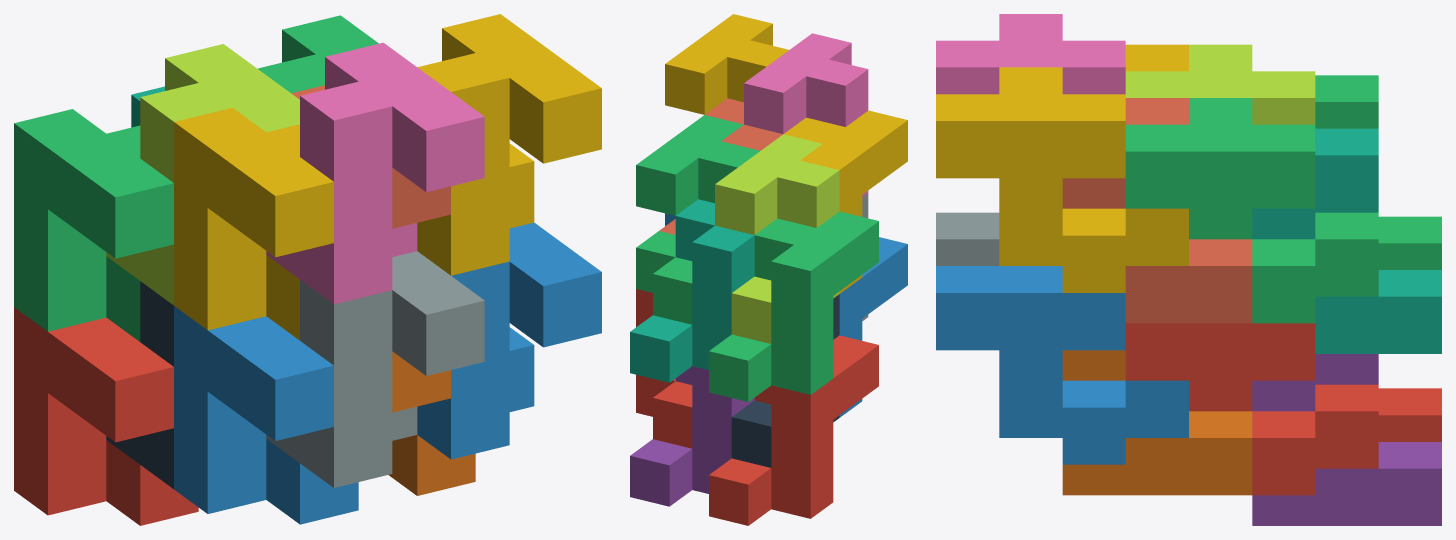
Rendered from tiling.obj.
3 views of the same model, side by side, from view 1: azimuth 30°, elevation 25°; view 2: azimuth 150°, elevation 25°; view 3: azimuth 270°, elevation 25° (orthographic). The views are drawn at different scales.
Visible parts, largest first — view 1: copy_2_domain_4, copy_1_domain_3, copy_1_domain_4, copy_1_domain_2, copy_1_domain_1, copy_2_domain_8, copy_2_domain_2, copy_2_domain_6, copy_2_domain_3, copy_1_domain_6, copy_2_domain_7, copy_2_domain_1 (+1 smaller); view 2: copy_1_domain_3, copy_1_domain_1, copy_1_domain_7, copy_2_domain_3, copy_2_domain_7, copy_2_domain_4, copy_1_domain_5, copy_2_domain_8, copy_1_domain_4, copy_2_domain_5, copy_1_domain_2, copy_2_domain_1 (+1 smaller); view 3: copy_2_domain_8, copy_2_domain_7, copy_2_domain_6, copy_2_domain_5, copy_1_domain_7, copy_1_domain_5, copy_1_domain_6, copy_1_domain_8, copy_2_domain_4, copy_2_domain_3, copy_1_domain_3, copy_1_domain_1 (+2 smaller).
Part boxes in pixels (x1,y1,x2,y2): copy_2_domain_4: (266, 42, 484, 304); copy_1_domain_3: (14, 109, 173, 341); copy_1_domain_4: (174, 107, 333, 340); copy_1_domain_2: (174, 306, 358, 524); copy_1_domain_1: (14, 307, 198, 525); copy_2_domain_8: (417, 14, 601, 275); copy_2_domain_2: (266, 251, 484, 487); copy_2_domain_6: (417, 222, 601, 459); copy_2_domain_3: (106, 44, 299, 305); copy_1_domain_6: (389, 351, 475, 495); copy_2_domain_7: (258, 15, 378, 93); copy_2_domain_1: (106, 281, 173, 488); copy_1_domain_3: (709, 211, 878, 401); copy_1_domain_1: (709, 335, 878, 525); copy_1_domain_7: (630, 199, 754, 382); copy_2_domain_3: (715, 134, 839, 343); copy_2_domain_7: (636, 115, 759, 324); copy_2_domain_4: (744, 33, 868, 197); copy_1_domain_5: (630, 366, 754, 506); copy_2_domain_8: (665, 14, 788, 114); copy_1_domain_4: (784, 110, 907, 293); copy_2_domain_5: (636, 289, 692, 448); copy_1_domain_2: (839, 237, 907, 417); copy_2_domain_1: (731, 294, 839, 467); copy_2_domain_8: (936, 67, 1188, 292); copy_2_domain_7: (1125, 98, 1378, 323); copy_2_domain_6: (936, 266, 1188, 464); copy_2_domain_5: (1125, 323, 1378, 495); copy_1_domain_7: (1252, 128, 1441, 353); copy_1_domain_5: (1252, 354, 1441, 525); copy_1_domain_6: (1062, 350, 1252, 495); copy_1_domain_8: (1062, 98, 1252, 323); copy_2_domain_4: (936, 14, 1125, 94); copy_2_domain_3: (1125, 44, 1315, 124); copy_1_domain_3: (1315, 75, 1441, 269); copy_1_domain_1: (1378, 388, 1441, 441).
Size of the model in its own units: 6 by 8 by 8.
